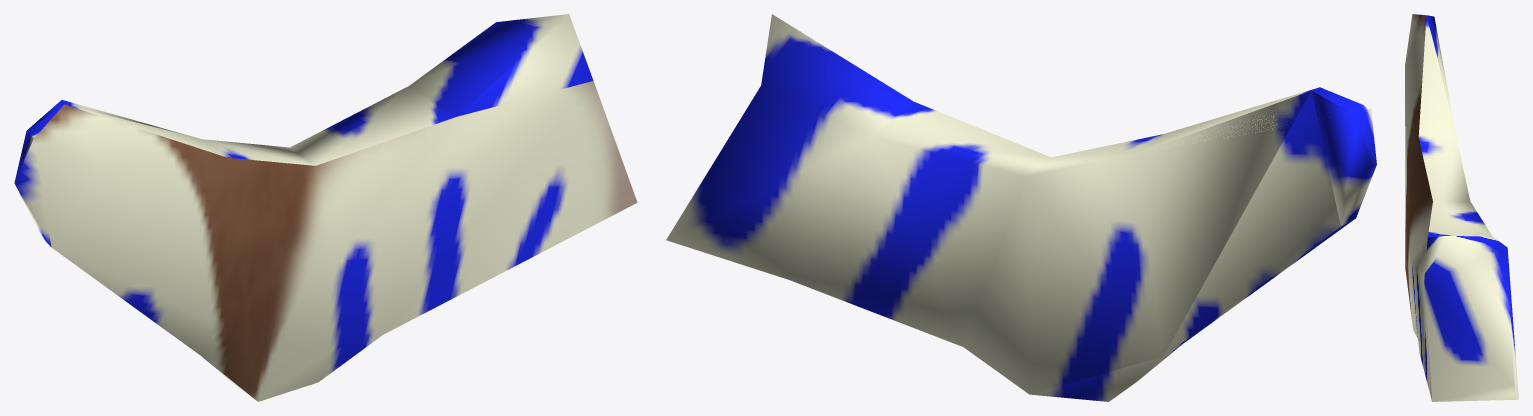
The model's file is Socks_Holster.fbx.
3 renders of one model, left to right at view 1: azimuth 30°, elevation 25°; view 2: azimuth 150°, elevation 25°; view 3: azimuth 270°, elevation 25°, orthographic. The views are drawn at different scales.
Parts seen in each view (by area): view 1: Socks_Long.001; view 2: Socks_Long.001; view 3: Socks_Long.001.
Part boxes in pixels (box(x1,y1,x2,y2)): Socks_Long.001: box(14, 14, 637, 401); Socks_Long.001: box(666, 14, 1376, 401); Socks_Long.001: box(1405, 14, 1518, 401).
Size of the model in its own units: 0.1943 by 0.0413 by 0.1006.
